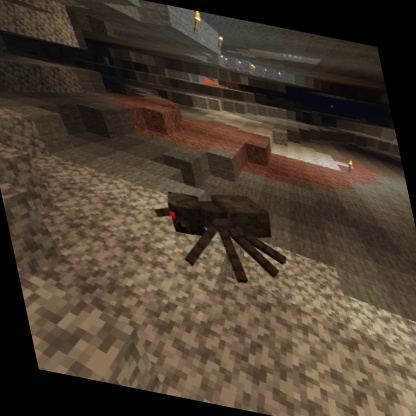spider: (144, 174, 296, 297)
